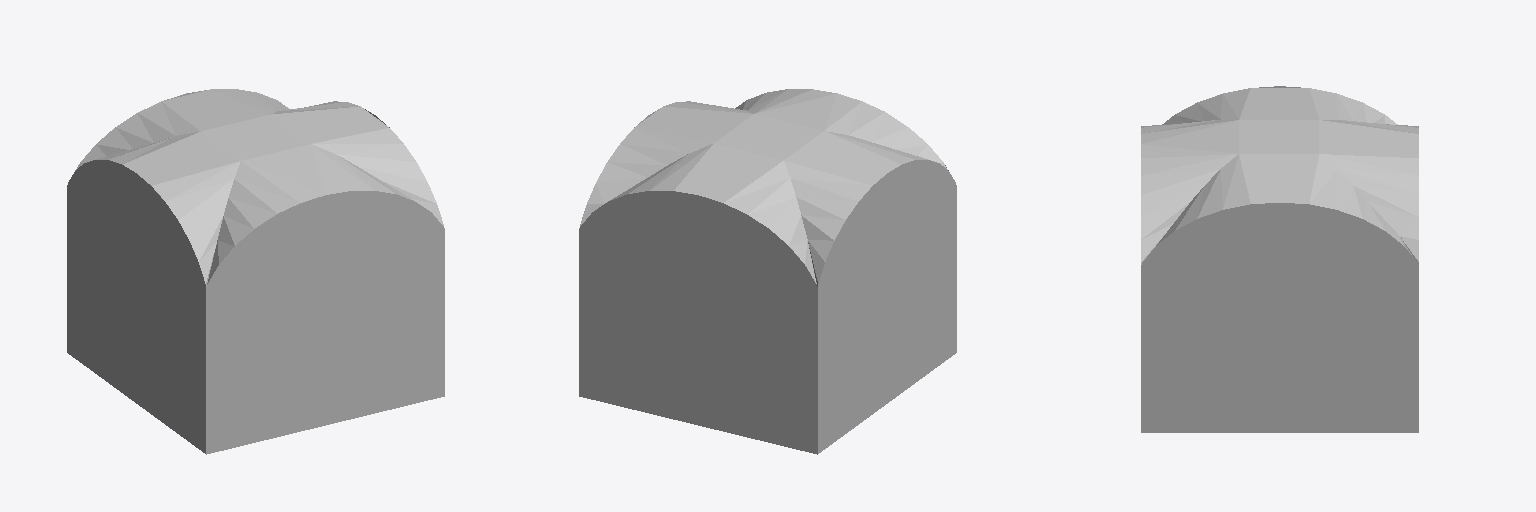
Rendered from fungerGallery.obj.
3 renders of one model, left to right at view 1: azimuth 30°, elevation 25°; view 2: azimuth 150°, elevation 25°; view 3: azimuth 270°, elevation 25°, orthographic.
Parts seen in each view (by area): view 1: Circle_Circle.002; view 2: Circle_Circle.002; view 3: Circle_Circle.002.
Part boxes in pixels (x1,y1,x2,y2): Circle_Circle.002: (67, 89, 444, 454); Circle_Circle.002: (579, 89, 956, 454); Circle_Circle.002: (1141, 86, 1418, 432).
Bounding box in the file's own units: 6 × 5.71 × 6.06.